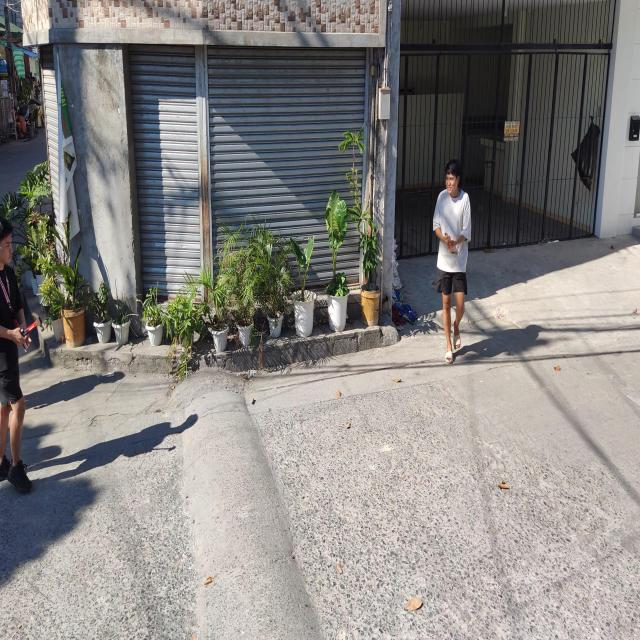hammer: (20, 312, 44, 337), (445, 232, 457, 255)
